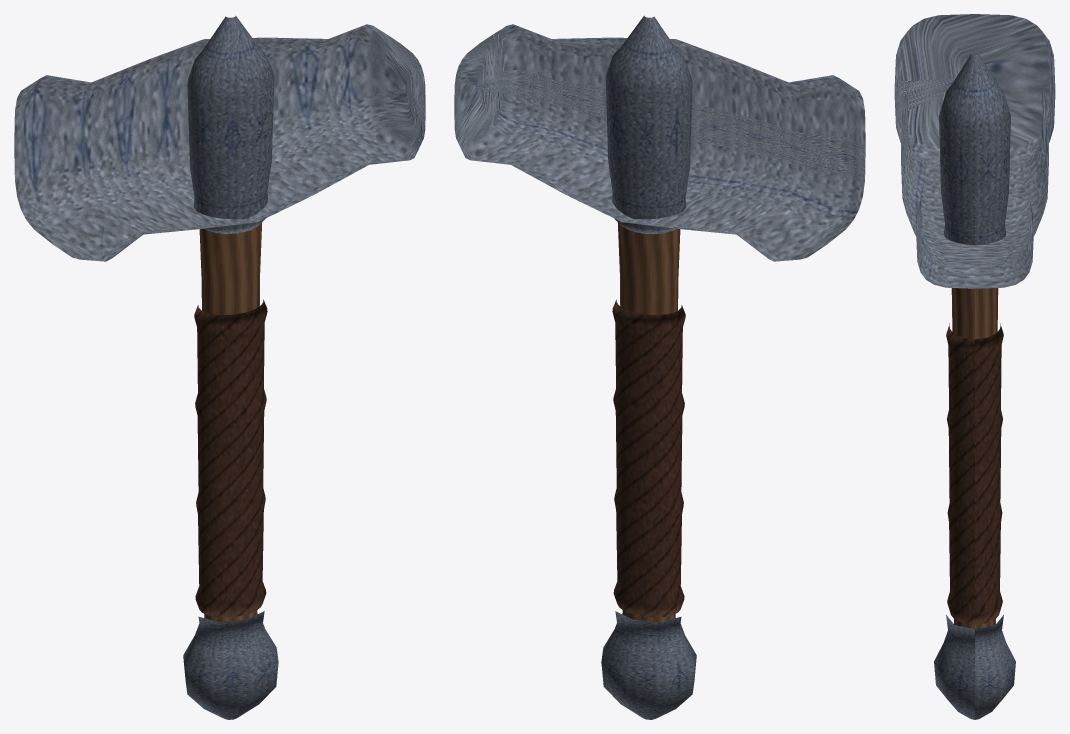
Rendered from norse-hammer.glb.
The picture shows the model from 3 angles, left to right: view 1: azimuth 30°, elevation 25°; view 2: azimuth 150°, elevation 25°; view 3: azimuth 270°, elevation 25°; orthographic projection. The views are drawn at different scales.
Parts seen in each view (by area): view 1: HammerHead, LeatherGrip, SocketCollar, MetalPommel, WoodenHandle; view 2: HammerHead, LeatherGrip, SocketCollar, MetalPommel, WoodenHandle; view 3: HammerHead, LeatherGrip, SocketCollar, MetalPommel, WoodenHandle.
Boxes of the visible parts, <box> form: HammerHead: <box>14,24,425,261</box>; LeatherGrip: <box>194,299,267,617</box>; SocketCollar: <box>187,15,274,234</box>; MetalPommel: <box>183,611,278,719</box>; WoodenHandle: <box>199,222,262,621</box>; HammerHead: <box>454,24,865,261</box>; LeatherGrip: <box>612,299,685,617</box>; SocketCollar: <box>605,15,692,234</box>; MetalPommel: <box>601,611,696,719</box>; WoodenHandle: <box>617,222,680,621</box>; HammerHead: <box>894,14,1055,288</box>; LeatherGrip: <box>946,323,1003,624</box>; SocketCollar: <box>939,54,1010,245</box>; MetalPommel: <box>934,615,1015,719</box>; WoodenHandle: <box>951,288,998,629</box>.
Size of the model in its own units: 0.361 by 0.672 by 0.148.
4 materials, 4 textured.
